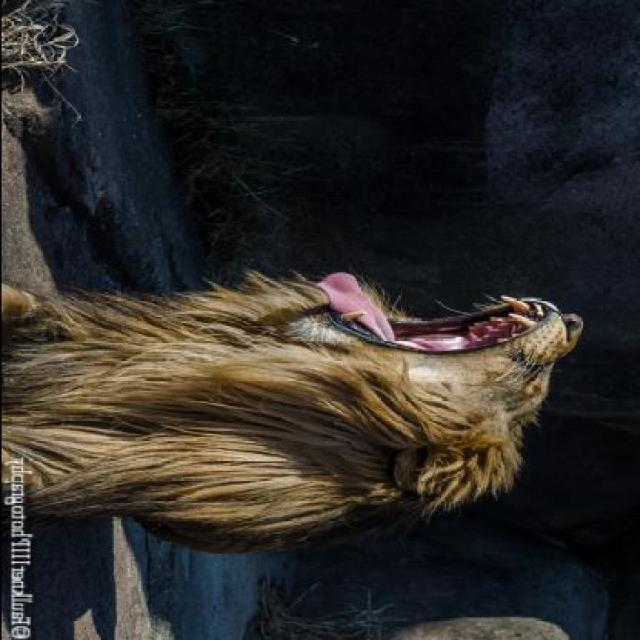Lion: (2, 237, 604, 563)
